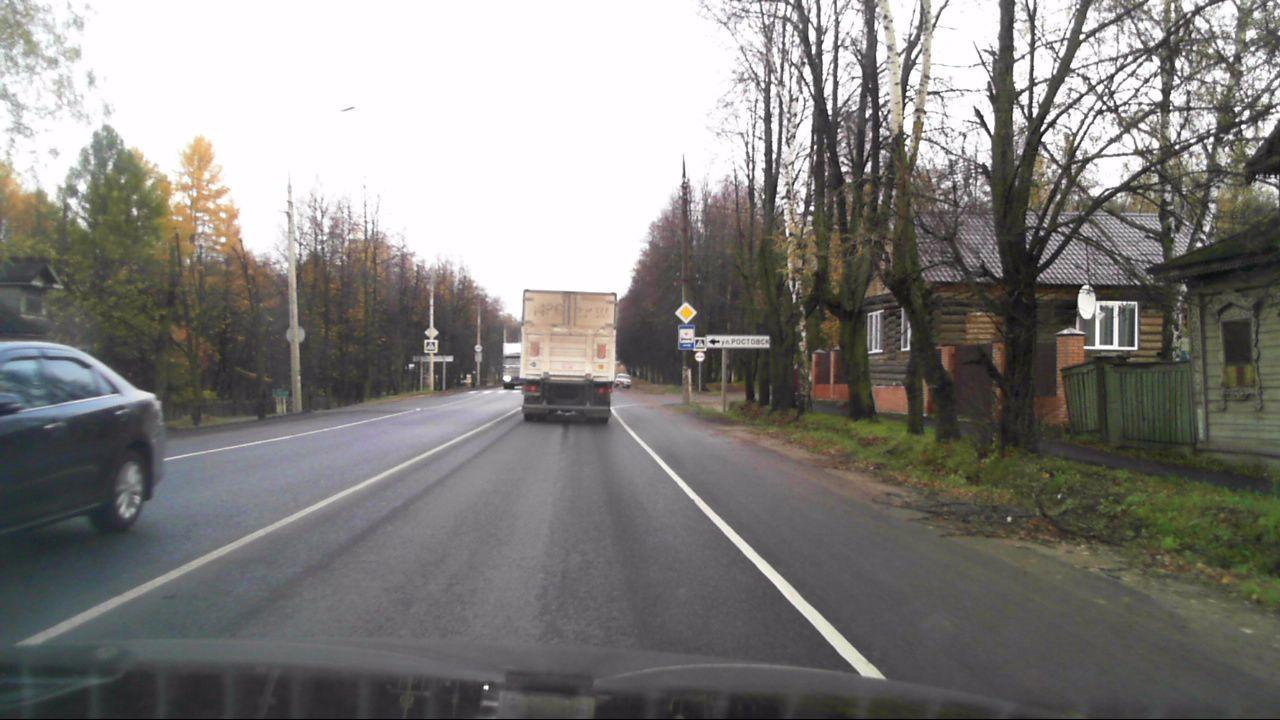2_1: (674, 301, 698, 323), (423, 326, 440, 339)
3_20: (694, 351, 705, 362)
5_19_1: (694, 338, 705, 349)
5_19_2: (425, 341, 436, 351)
6_10_1: (706, 334, 770, 349)
7_2: (677, 324, 694, 350)
